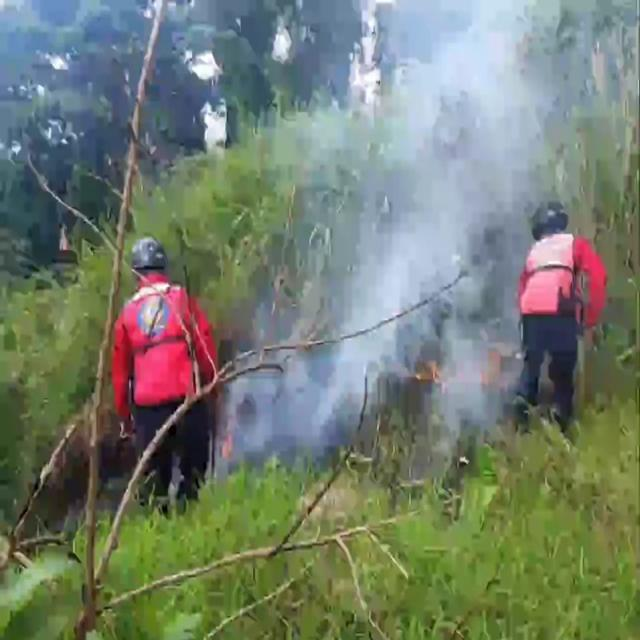Smoke: (233, 2, 553, 456)
